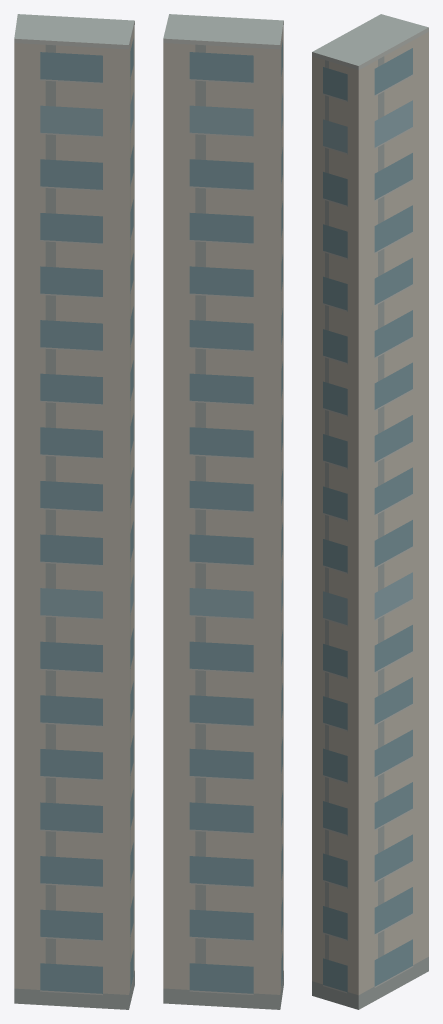
The model's file is survey-upis-32729472.glb.
The picture shows the model from 3 angles, left to right: view 1: azimuth 30°, elevation 25°; view 2: azimuth 210°, elevation 25°; view 3: azimuth 270°, elevation 25°; orthographic projection. The views are drawn at different scales.
Visible parts, largest first — view 1: survey-upis-32729472.tmp; view 2: survey-upis-32729472.tmp; view 3: survey-upis-32729472.tmp.
Boxes of the visible parts, x1,y1,x2,y2 form: survey-upis-32729472.tmp: (14, 14, 134, 1009); survey-upis-32729472.tmp: (163, 14, 283, 1009); survey-upis-32729472.tmp: (312, 14, 428, 1009).
Bounding box in the file's own units: 6.5 × 54.9 × 6.16.
